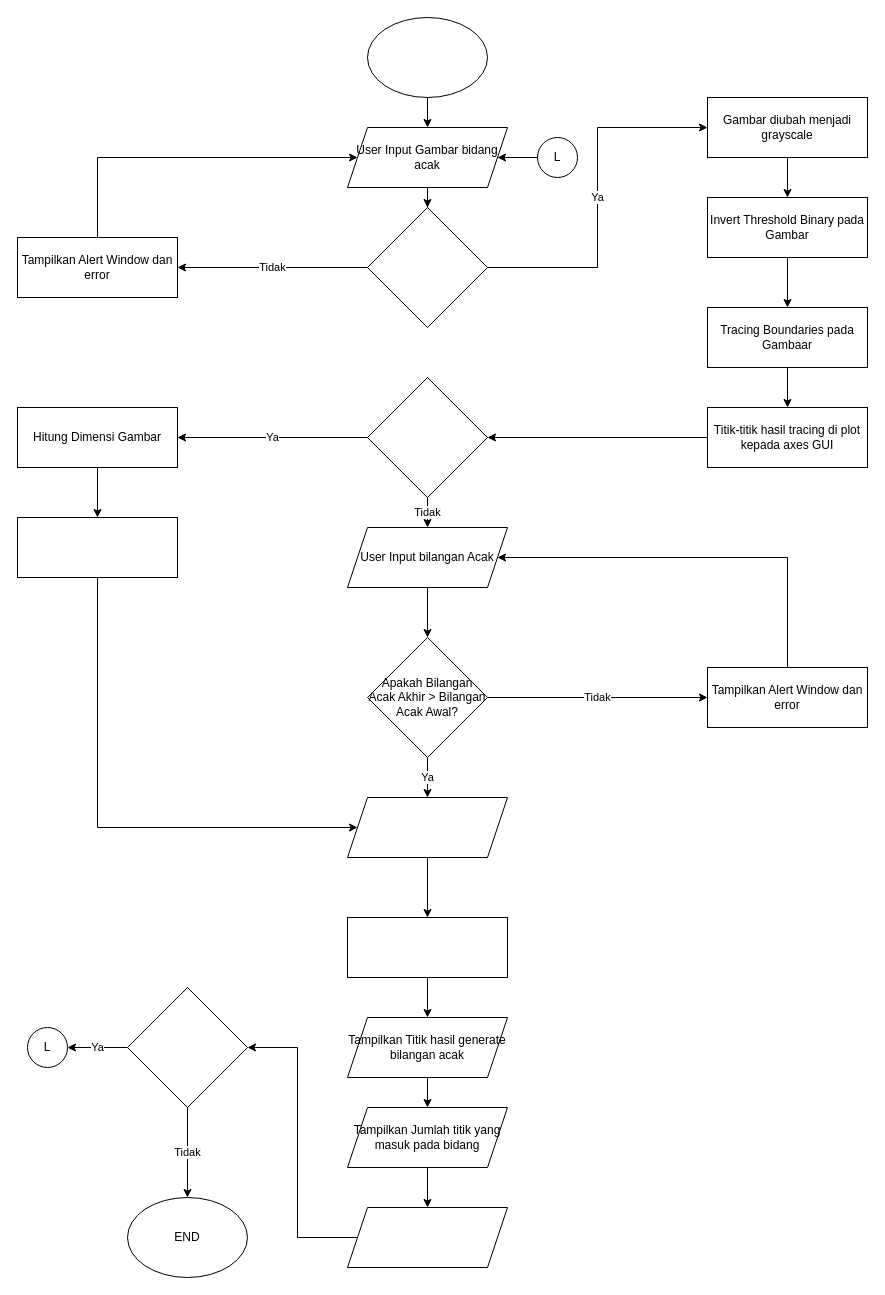
This 885x1295 diagram has some shape labels left out. Each missing label, with the centre of its shape:
"Apakah bilangan acak ingin disesuaikan dengan dimensi gambar?" goes at pixel 427 437.
"Apakah File adalah file gambar?" goes at pixel 427 267.
"Apakah ingin melakukan perhitungan lagi?" goes at pixel 187 1047.
"Set Kolom input bilangan acak menjadi nilai dimensi gambar dan jadikan disable" goes at pixel 97 547.
"START" goes at pixel 427 57.
"Tampilkan Hasil Luas" goes at pixel 427 1237.
"User Input Jumlah Iterasi" goes at pixel 427 827.
"User Klik Calculate dan dilakukan kalkulasi luas daerah dengan monte-carlo" goes at pixel 427 947.
